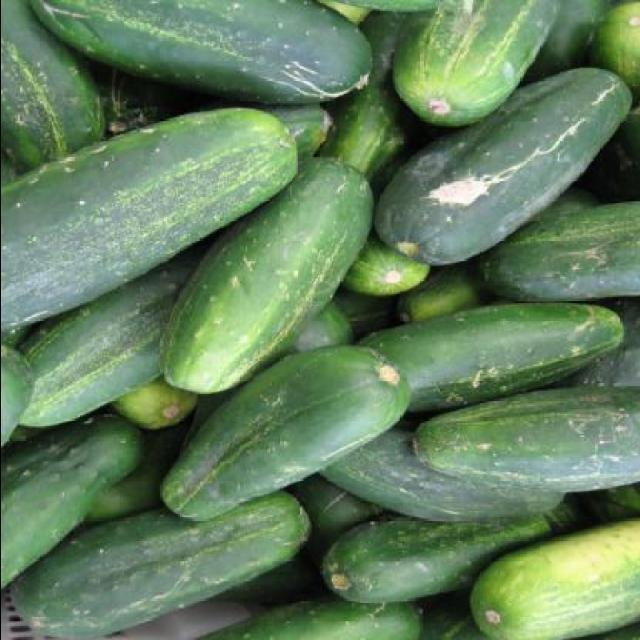Cucumber: (2, 0, 640, 638), (143, 168, 372, 400), (28, 0, 374, 103)
